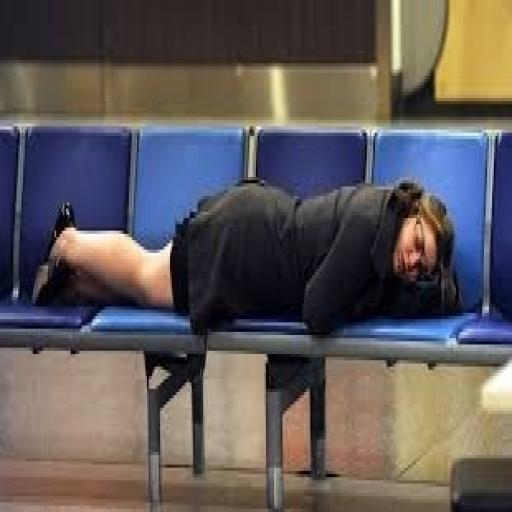sleeping: (30, 171, 462, 335)
